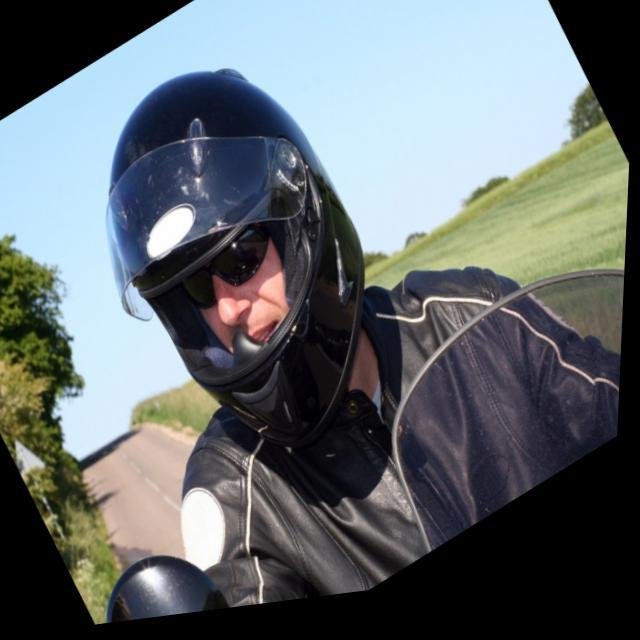Helmet: (92, 59, 381, 464)
